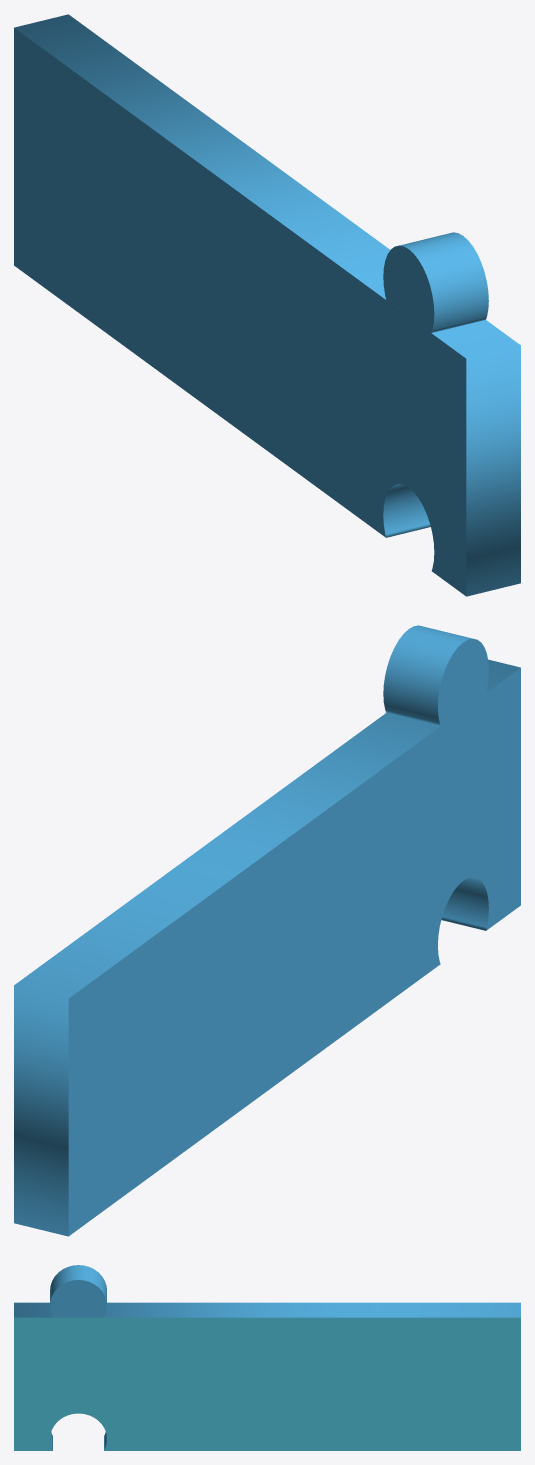
File: block.fbx
3 views of the same model, one above another, from view 1: azimuth 30°, elevation 25°; view 2: azimuth 150°, elevation 25°; view 3: azimuth 270°, elevation 25° (orthographic). The views are drawn at different scales.
Visible parts, largest first — view 1: Cylinder.001; view 2: Cylinder.001; view 3: Cylinder.001.
Part boxes in pixels (left/top/right/bottom): Cylinder.001: left=14, top=14, right=520, bottom=596; Cylinder.001: left=14, top=625, right=520, bottom=1236; Cylinder.001: left=14, top=1265, right=520, bottom=1450.
Size of the model in its own units: 38.07 by 203 by 547.
